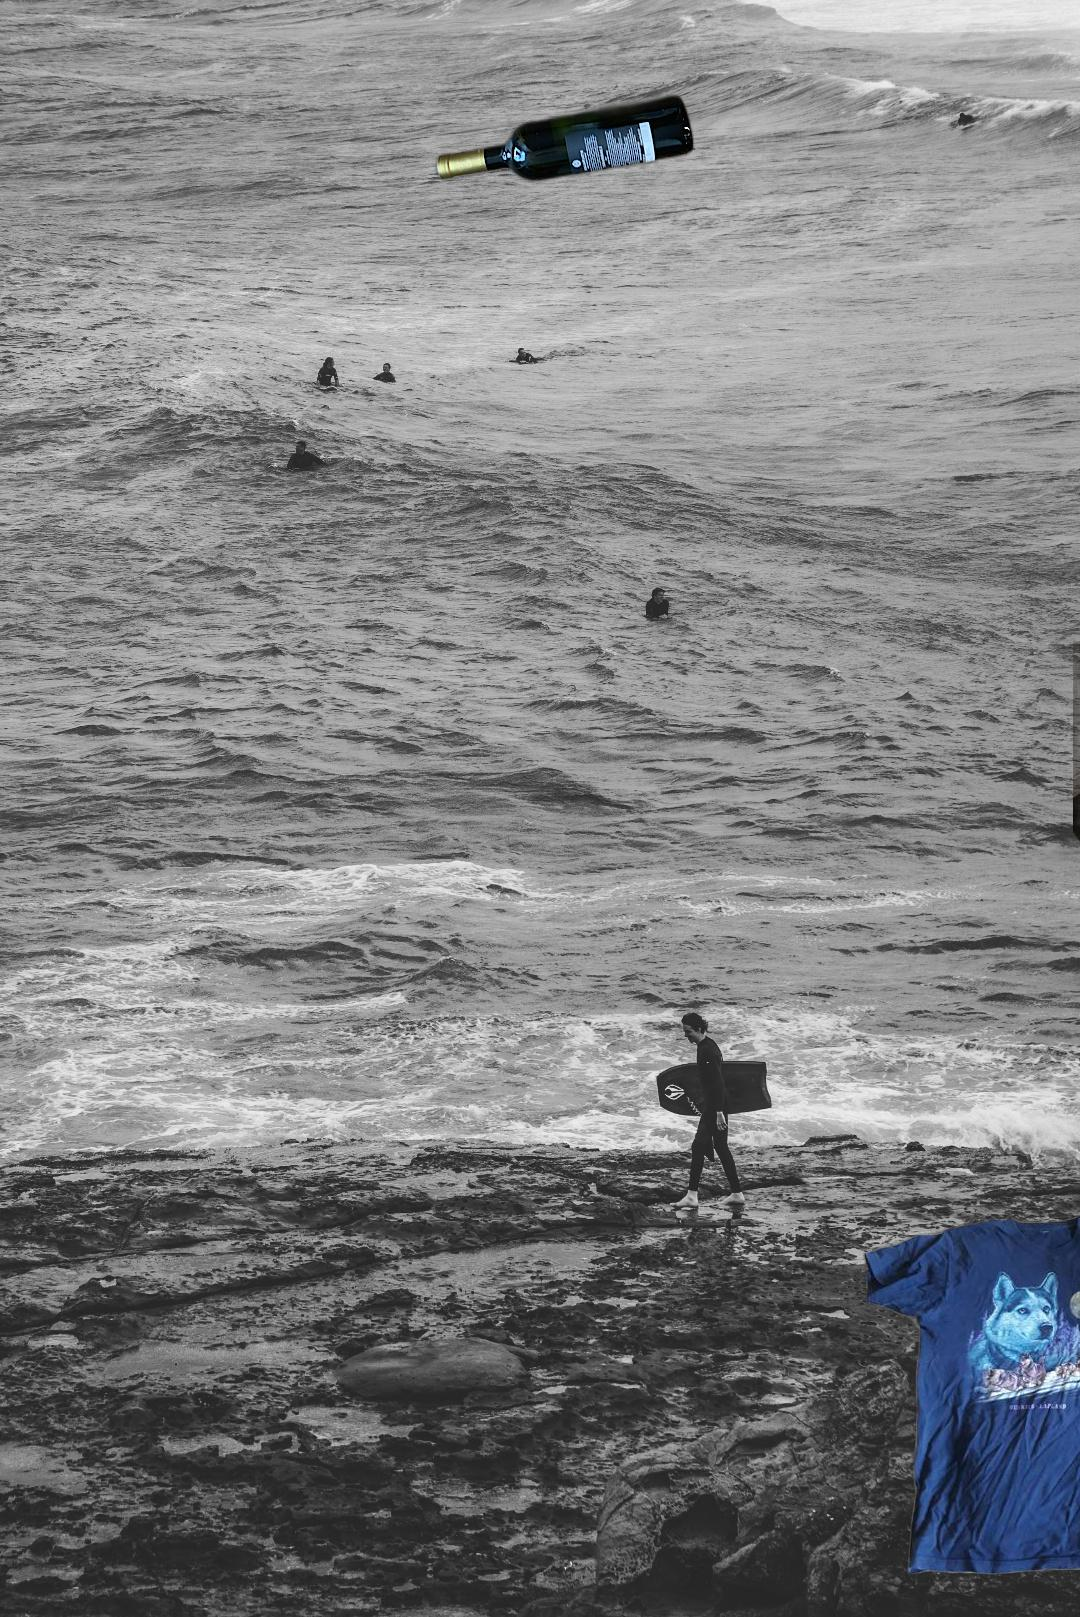clothes: (859, 1210, 1080, 1578)
glass: (432, 89, 699, 187)
plastic-bag: (1073, 641, 1080, 904)
